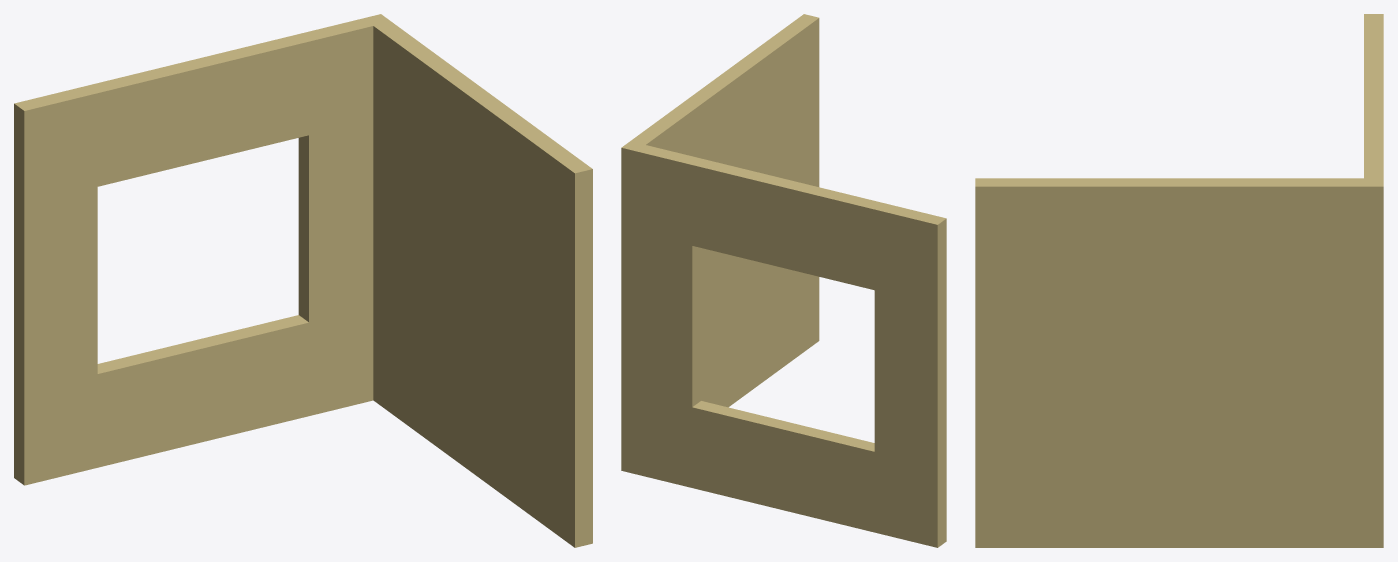
File: Wal_6_Corner_C.fbx
3 renders of one model, left to right at view 1: azimuth 30°, elevation 25°; view 2: azimuth 150°, elevation 25°; view 3: azimuth 270°, elevation 25°, orthographic. The views are drawn at different scales.
Parts seen in each view (by area): view 1: polySurface40; view 2: polySurface40; view 3: polySurface40.
Boxes of the visible parts, x1=… form: polySurface40: x1=14, y1=14, x2=592, y2=547; polySurface40: x1=621, y1=14, x2=946, y2=547; polySurface40: x1=975, y1=14, x2=1383, y2=547.
Size of the model in its own units: 4.1 by 4 by 4.1.
1 material, 1 textured.
